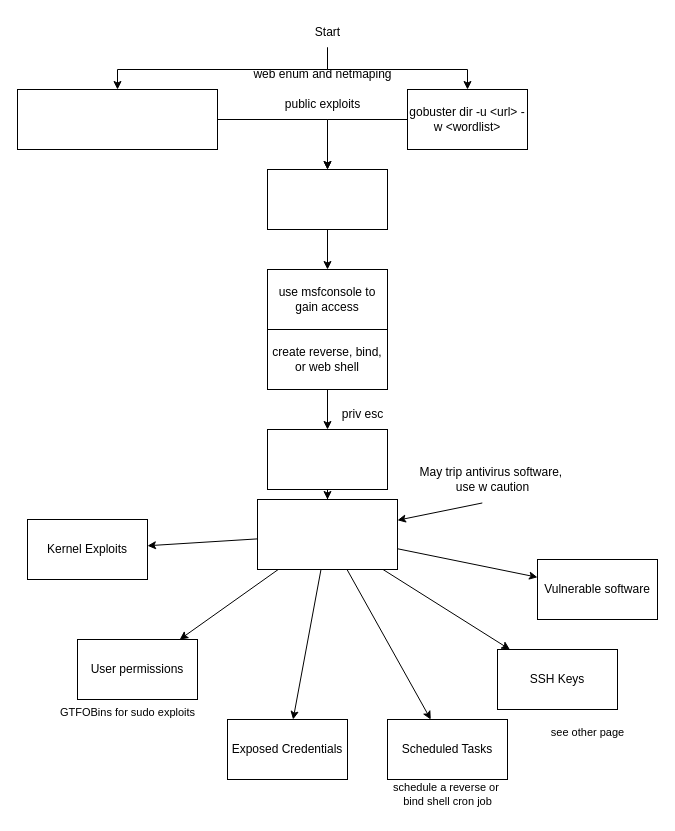
This 675x831 diagram has some shape labels left out. Each missing label, with the box of its shape:
nmap -sC -sV <url> -o <fileoutputname>.nmap: (16, 88, 218, 150)
payloadAllTheThings or HackTricks checklists: (266, 428, 388, 490)
SCRIPTS: both - PEASS Linux - LinEnum, LPC Windows - Seatbelt, JAWS: (256, 498, 398, 570)
search for exploits: (266, 168, 388, 230)
